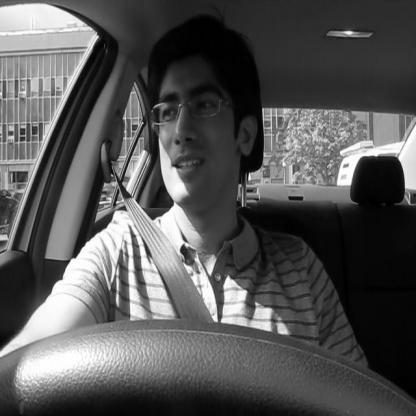seatbelt: (96, 2, 283, 329)
